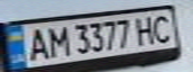3: (69, 20, 90, 55), (87, 20, 106, 53)
7: (115, 16, 136, 48), (103, 17, 121, 51)
A: (21, 26, 51, 62)
C: (148, 11, 178, 44)
H: (133, 13, 160, 46)
M: (42, 24, 69, 58)
